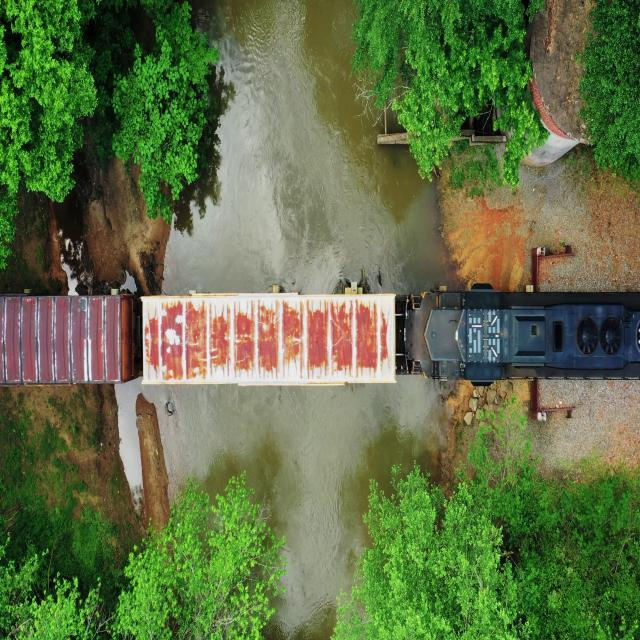vehicle: (140, 284, 402, 389), (409, 284, 640, 382), (1, 284, 138, 384)
